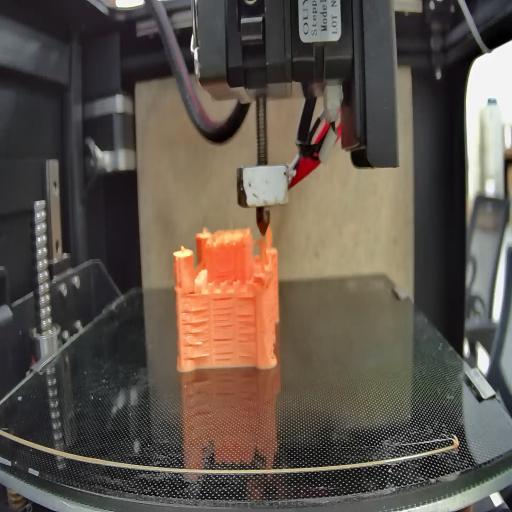cracks: (180, 307, 209, 361), (237, 312, 257, 361), (213, 294, 234, 334), (212, 336, 235, 366), (237, 293, 255, 305), (187, 290, 200, 295)
